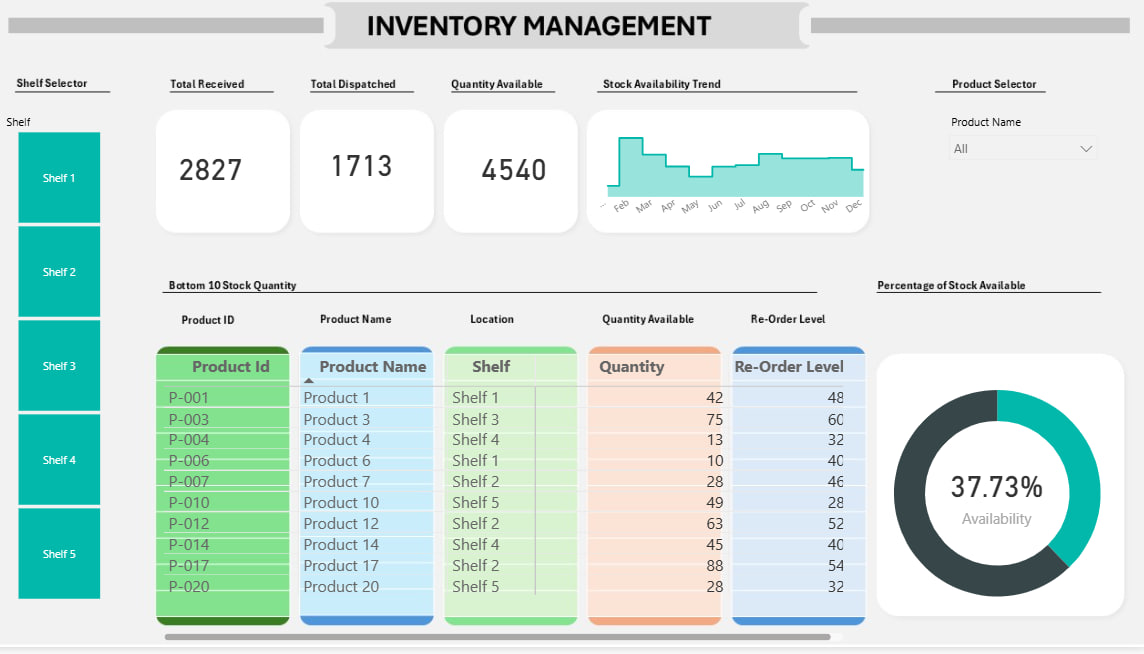

The dashboard page shown, as its layout file describes it:
{"tool":"powerbi","page":{"name":"Page 1","canvas":[1280,720],"ordinal":0},"visuals":[{"type":"card","fields":{"Values":[" Measures.Dispatch"]},"box":[195,128.8,111.7,128.8],"z":0},{"type":"card","fields":{"Values":[" Measures.Receipt"]},"box":[528.3,130.7,111.7,126.9],"z":1000},{"type":"card","fields":{"Values":[" Measures.Quantity"]},"box":[350.3,128.8,132.5,121.2],"z":2000},{"type":"donutChart","fields":{"Y":[" Measures.Availability"," Measures.Remainder"]},"box":[963.8,405.2,303,293.5],"z":3000},{"type":"lineChart","fields":{"Y":[" Measures.Quantity","select"],"Category":["Calander.Month Name"]},"box":[666.5,130.7,316.2,126.9],"z":4000},{"type":"pivotTable","fields":{"Rows":["Products.Product Id","Products.Product Name","Products.Shelf"],"Values":[" Measures.Quantity","Sum(Products.Re-Order Level)"]},"box":[195,395.7,755.5,323.8],"z":5000},{"type":"slicer","fields":{"Values":["Products.Shelf"]},"box":[13.3,130.7,140.1,543.4],"z":6000},{"type":"slicer","fields":{"Values":["Products.Product Name"]},"box":[1050.9,130.7,183.7,90.9],"z":7000},{"type":"card","fields":{"Values":[" Measures.Availability"]},"box":[1037.6,498,153.4,107.9],"z":8000}]}

Visuals, with their boxes in screenshot pixels (x1, y1, x2, y2), scaled from the page's 1280x720 canvas onto the 1144x654 screenshot:
card -  Measures.Dispatch: select_region(174, 117, 274, 234)
card -  Measures.Receipt: select_region(472, 119, 572, 234)
card -  Measures.Quantity: select_region(313, 117, 432, 227)
donutChart -  Measures.Availability x  Measures.Remainder: select_region(861, 368, 1132, 635)
lineChart -  Measures.Quantity x select: select_region(596, 119, 878, 234)
pivotTable - Products.Product Id x Products.Product Name: select_region(174, 359, 850, 653)
slicer - Products.Shelf: select_region(12, 119, 137, 612)
slicer - Products.Product Name: select_region(939, 119, 1103, 201)
card -  Measures.Availability: select_region(927, 452, 1064, 550)
